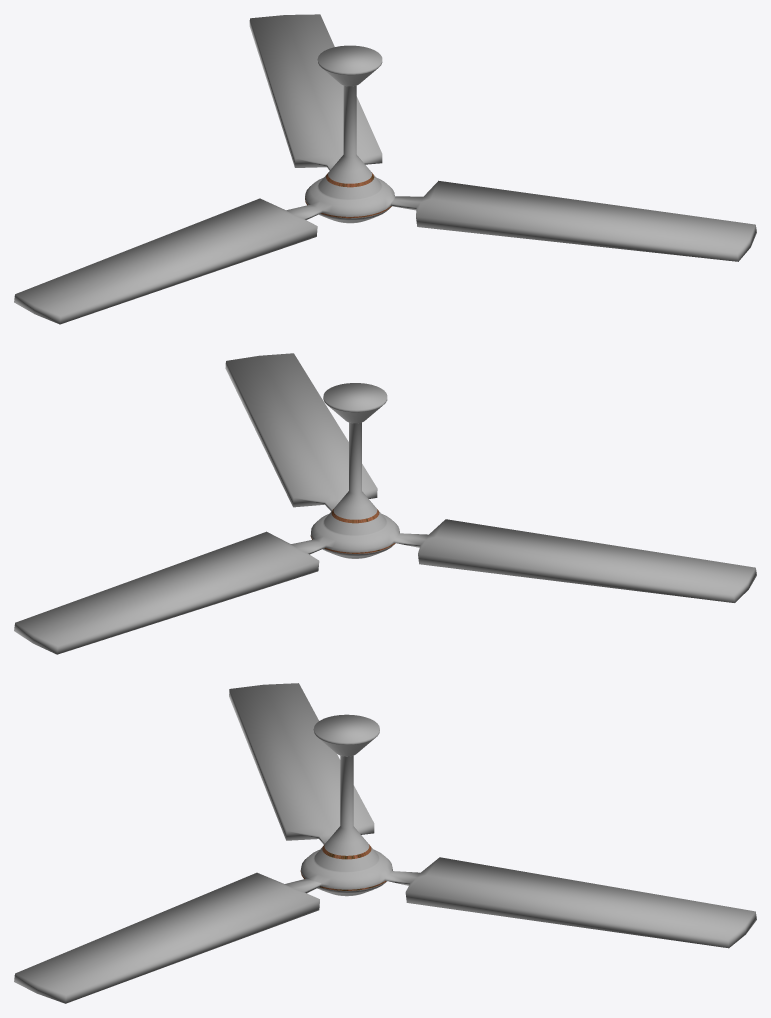
Rendered from quattran.glb.
3 renders of one model, top to bottom at view 1: azimuth 30°, elevation 25°; view 2: azimuth 150°, elevation 25°; view 3: azimuth 270°, elevation 25°, orthographic. The views are drawn at different scales.
Parts seen in each view (by area): view 1: Cylinder; view 2: Cylinder; view 3: Cylinder.
Part boxes in pixels (x1=…): Cylinder: x1=14, y1=14, x2=756, y2=324; Cylinder: x1=14, y1=353, x2=756, y2=654; Cylinder: x1=14, y1=683, x2=756, y2=1003.
Bounding box in the file's own units: 3.41 × 0.8065 × 3.42.
2 materials, 1 textured.
